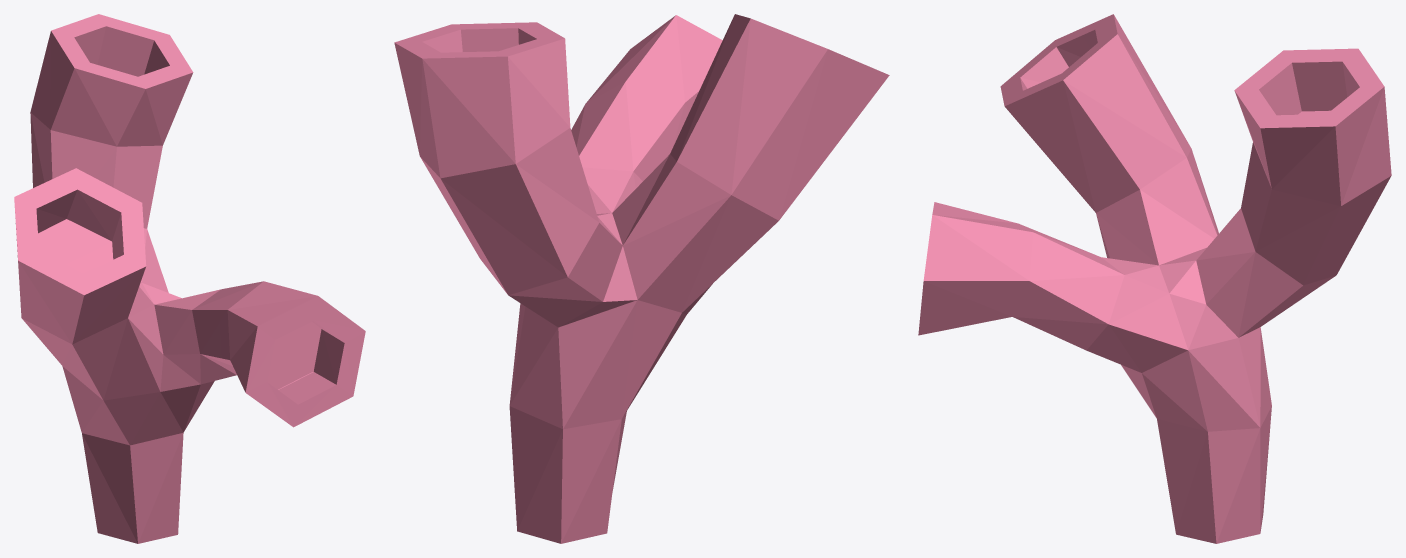
The model's file is Coral_003.glb.
The picture shows the model from 3 angles, left to right: view 1: azimuth 30°, elevation 25°; view 2: azimuth 150°, elevation 25°; view 3: azimuth 270°, elevation 25°; orthographic projection. The views are drawn at different scales.
Parts seen in each view (by area): view 1: Coral_003; view 2: Coral_003; view 3: Coral_003.
Boxes of the visible parts, left/top/right/bottom form: Coral_003: left=14, top=14, right=365, bottom=543; Coral_003: left=394, top=14, right=889, bottom=543; Coral_003: left=918, top=14, right=1391, bottom=543.
Size of the model in its own units: 0.1823 by 0.2732 by 0.2511.
Materials: 1 (1 with a texture image).
